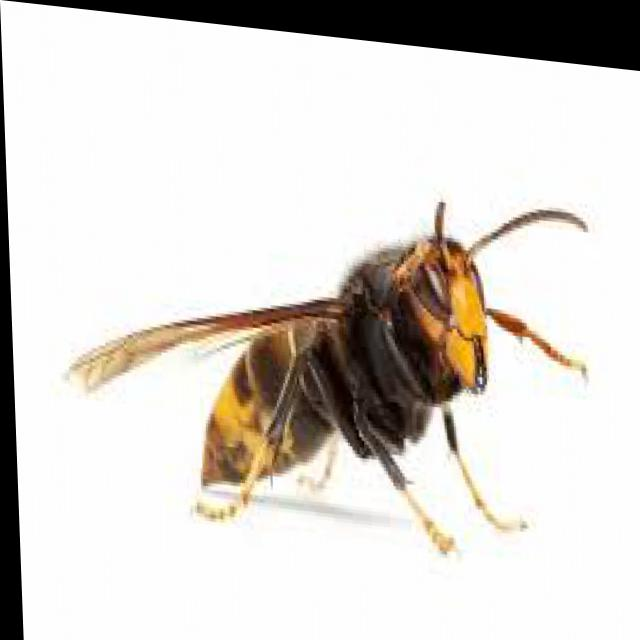Vespa Velutina: (45, 147, 604, 567)
